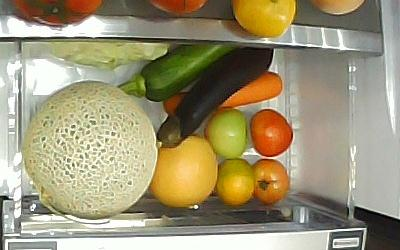cabbage: (43, 40, 173, 68)
carrot: (163, 70, 283, 115)
eggplant: (156, 46, 275, 149)
melon: (22, 80, 156, 220)
pear: (149, 134, 217, 208)
prune: (249, 109, 292, 157)
tangerine: (217, 160, 254, 206)
tomato: (205, 108, 248, 160), (252, 158, 291, 206)
zucchini: (118, 45, 238, 103)
